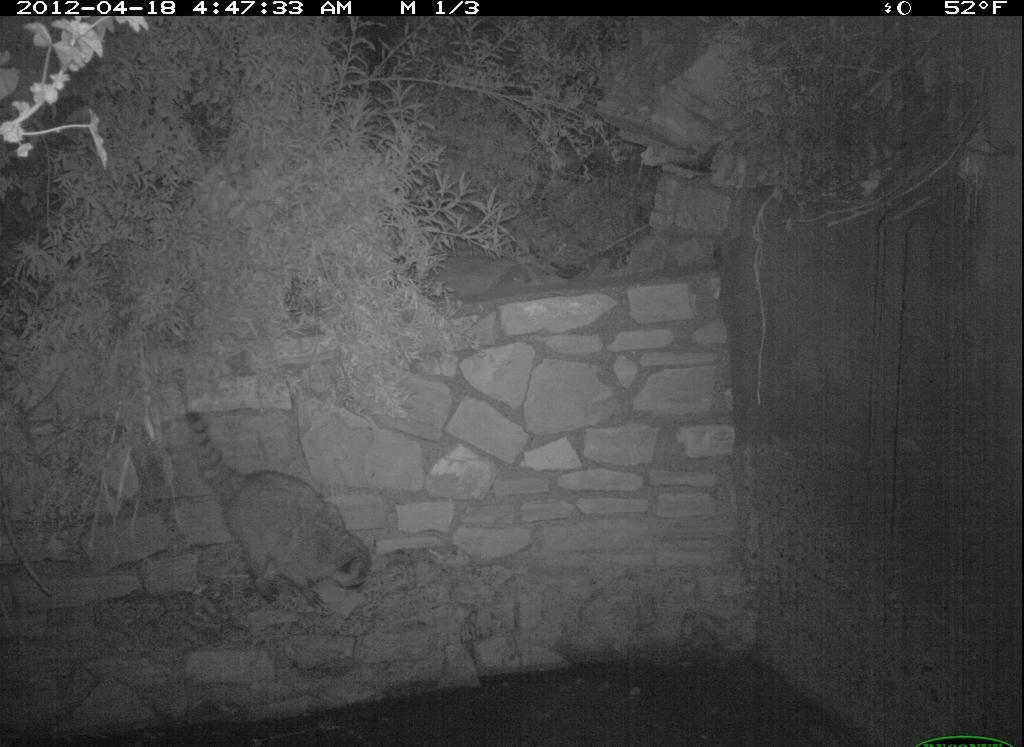raccoon: (166, 408, 400, 617)
